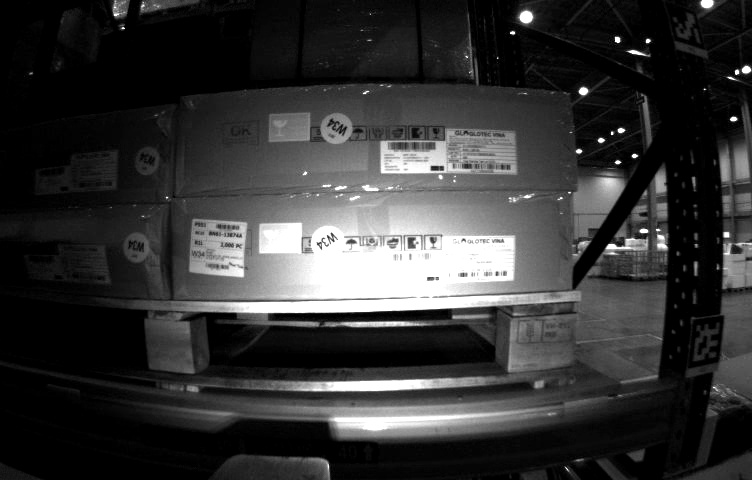True Barcode: (191, 217, 244, 282)
